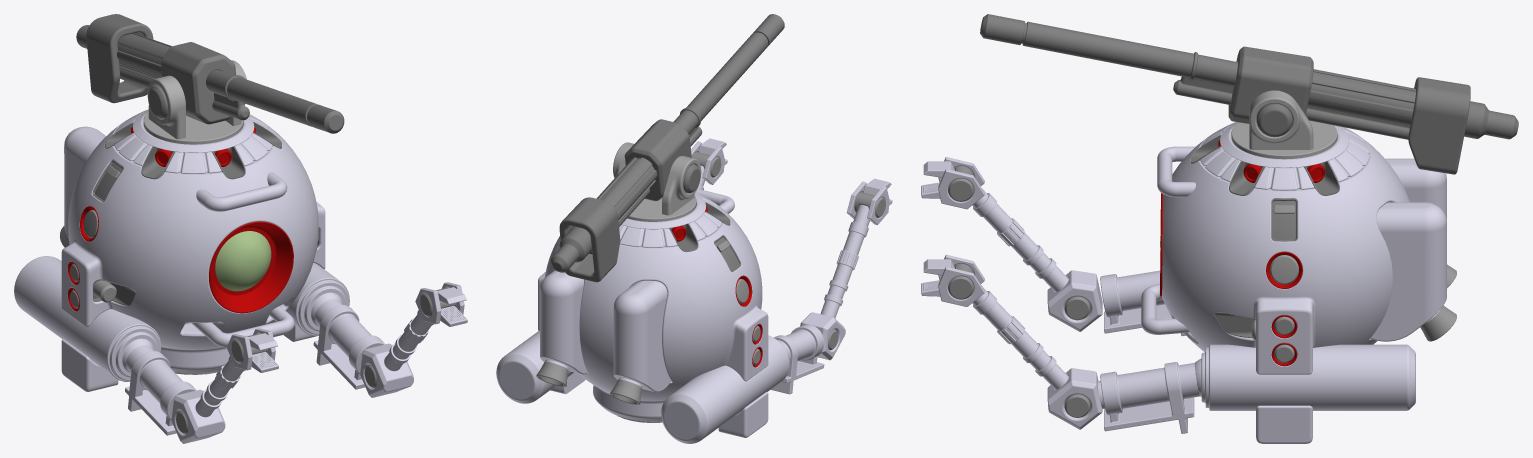
The picture shows the model from 3 angles, left to right: view 1: azimuth 30°, elevation 25°; view 2: azimuth 150°, elevation 25°; view 3: azimuth 270°, elevation 25°; orthographic projection. The views are drawn at different scales.
Visible parts, largest first — view 1: 018_ball_213; view 2: 018_ball_213; view 3: 018_ball_213.
Boxes of the visible parts, x1,y1,x2,y2 form: 018_ball_213: [14, 14, 467, 443]; 018_ball_213: [496, 14, 892, 443]; 018_ball_213: [921, 14, 1518, 443].
Bounding box in the file's own units: 0.1565 × 0.2136 × 0.3144.
